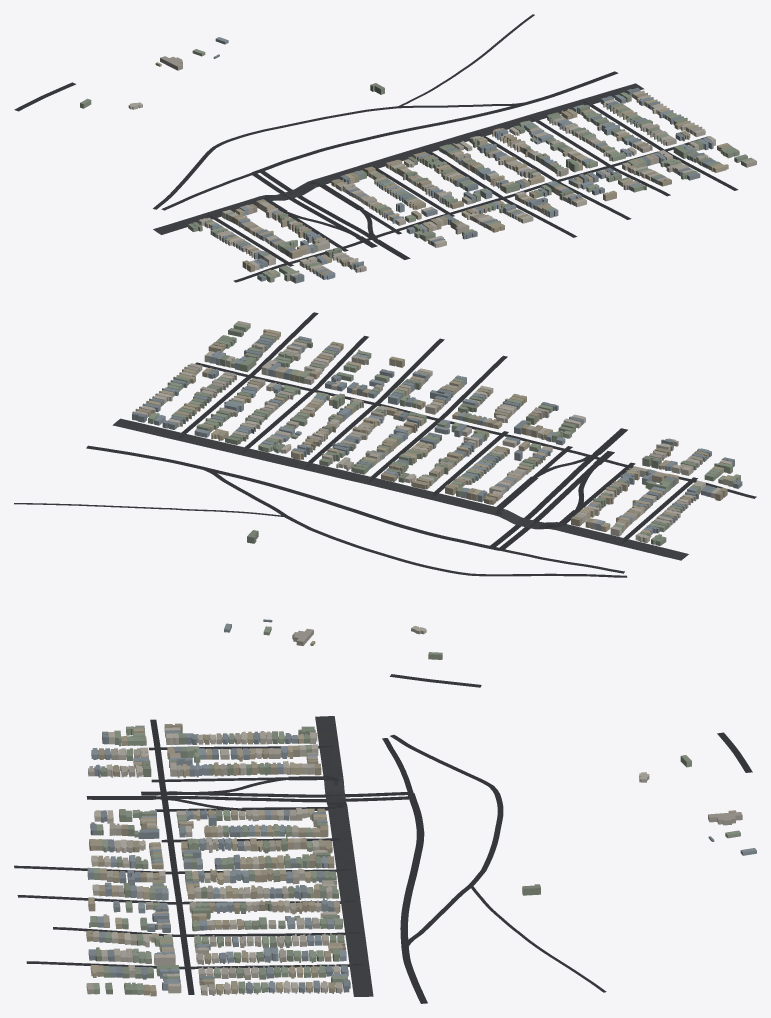
File: tile_3_14.glb
3 renders of one model, top to bottom at view 1: azimuth 30°, elevation 25°; view 2: azimuth 150°, elevation 25°; view 3: azimuth 270°, elevation 25°, orthographic. The views are drawn at different scales.
Visible parts, largest first — view 1: bld_3_14, road_3_14; view 2: bld_3_14, road_3_14; view 3: bld_3_14, road_3_14.
Part boxes in pixels (x1=…): bld_3_14: x1=80, y1=37, x2=756, y2=283; road_3_14: x1=14, y1=14, x2=738, y2=282; bld_3_14: x1=132, y1=321, x2=742, y2=659; road_3_14: x1=14, y1=312, x2=756, y2=687; bld_3_14: x1=86, y1=723, x2=756, y2=996; road_3_14: x1=14, y1=716, x2=752, y2=1003.
Size of the model in its own units: 854 by 41.82 by 901.
